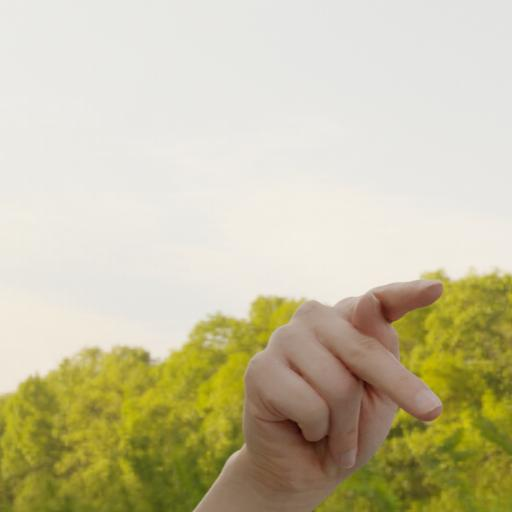P: (238, 272, 449, 487)
